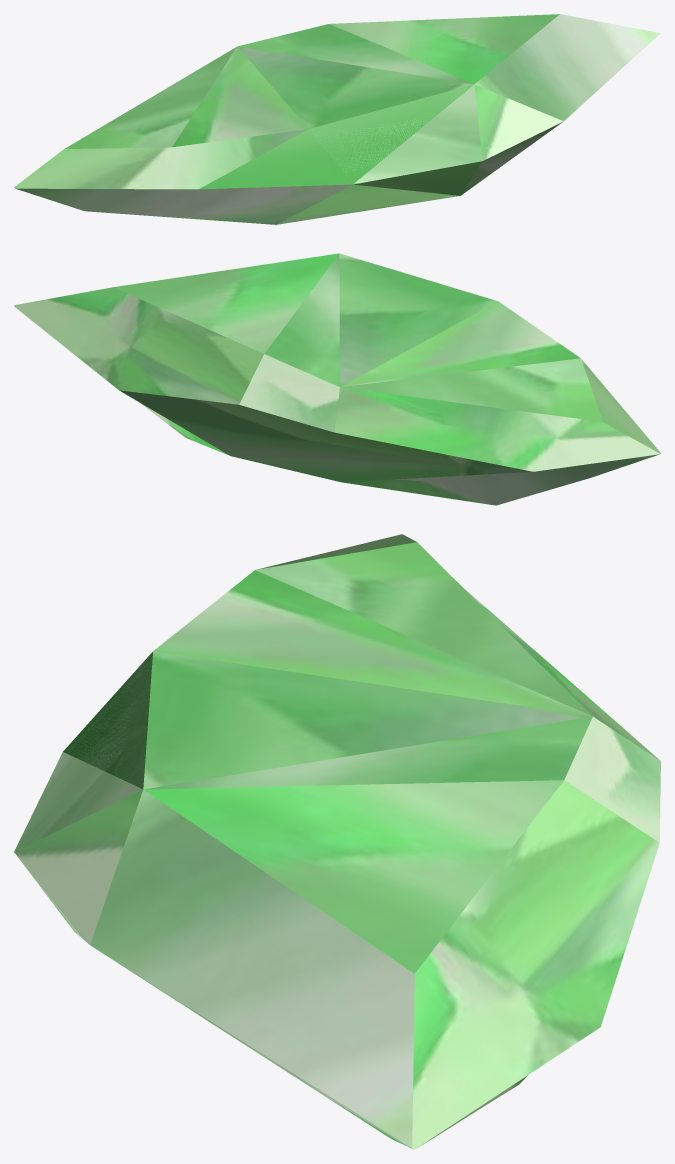
The model's file is Plateforme mouvante.fbx.
3 views of the same model, one above another, from view 1: azimuth 30°, elevation 25°; view 2: azimuth 150°, elevation 25°; view 3: azimuth 270°, elevation 25° (orthographic). The views are drawn at different scales.
Visible parts, largest first — view 1: Icosphere.030; view 2: Icosphere.030; view 3: Icosphere.030.
Boxes of the visible parts, bbox=[...] form: Icosphere.030: bbox=[14, 14, 660, 224]; Icosphere.030: bbox=[14, 253, 660, 505]; Icosphere.030: bbox=[14, 534, 660, 1149].
Bounding box in the file's own units: 296 × 55.48 × 134.
1 material, 1 textured.
